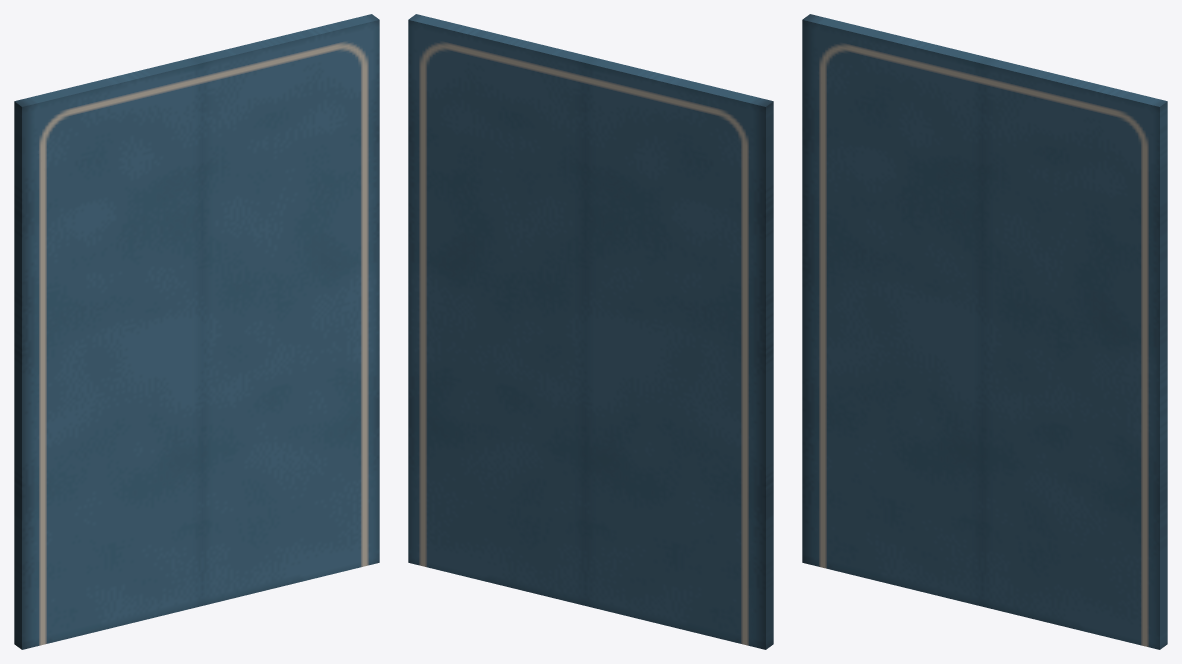
Rendered from galaxyCorridorDoors.glb.
The picture shows the model from 3 angles, left to right: view 1: azimuth 30°, elevation 25°; view 2: azimuth 150°, elevation 25°; view 3: azimuth 330°, elevation 25°; orthographic projection.
Parts seen in each view (by area): view 1: DoorA, DoorB; view 2: DoorA, DoorB; view 3: DoorB, DoorA.
Part boxes in pixels (x1=…): DoorA: x1=14, y1=57, x2=200, y2=649; DoorB: x1=193, y1=14, x2=379, y2=606; DoorA: x1=587, y1=57, x2=773, y2=649; DoorB: x1=408, y1=14, x2=594, y2=606; DoorB: x1=981, y1=57, x2=1167, y2=649; DoorA: x1=802, y1=14, x2=988, y2=606.
Bounding box in the file's own units: 1.57 × 2.28 × 0.0603.
1 material, 1 textured.
